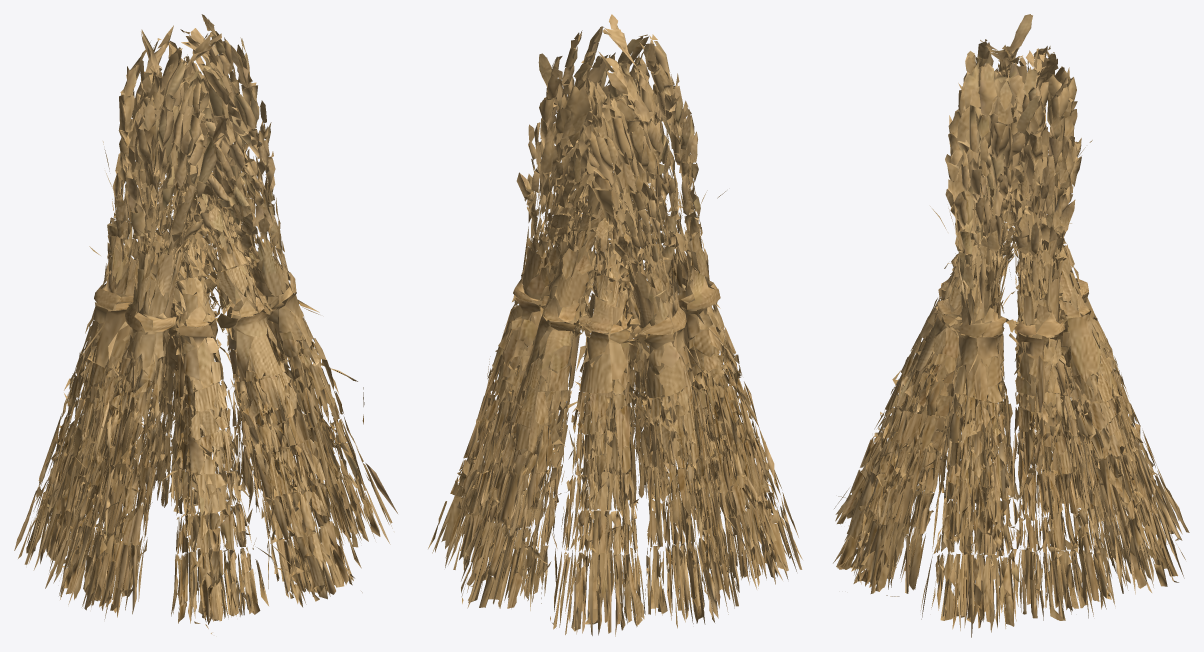
Rendered from grain-sheaves.glb.
The picture shows the model from 3 angles, left to right: view 1: azimuth 30°, elevation 25°; view 2: azimuth 150°, elevation 25°; view 3: azimuth 270°, elevation 25°; orthographic projection. The views are drawn at different scales.
Parts seen in each view (by area): view 1: Mesh_0; view 2: Mesh_0; view 3: Mesh_0.
Part boxes in pixels (x1=…): Mesh_0: x1=14, y1=14, x2=397, y2=633; Mesh_0: x1=428, y1=14, x2=802, y2=636; Mesh_0: x1=833, y1=14, x2=1189, y2=637.
Size of the model in its own units: 0.68 by 0.9915 by 0.614.
Materials: 1 (1 with a texture image).
